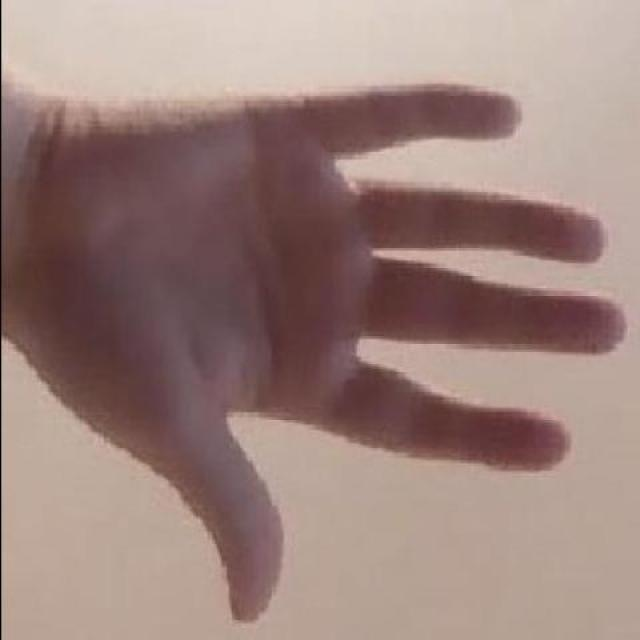Open Hand: (0, 68, 632, 625)
